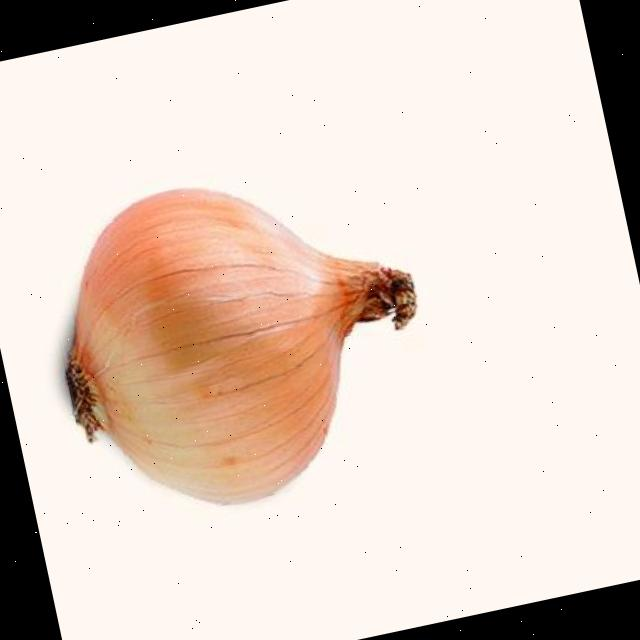Onion: (64, 189, 415, 504)
